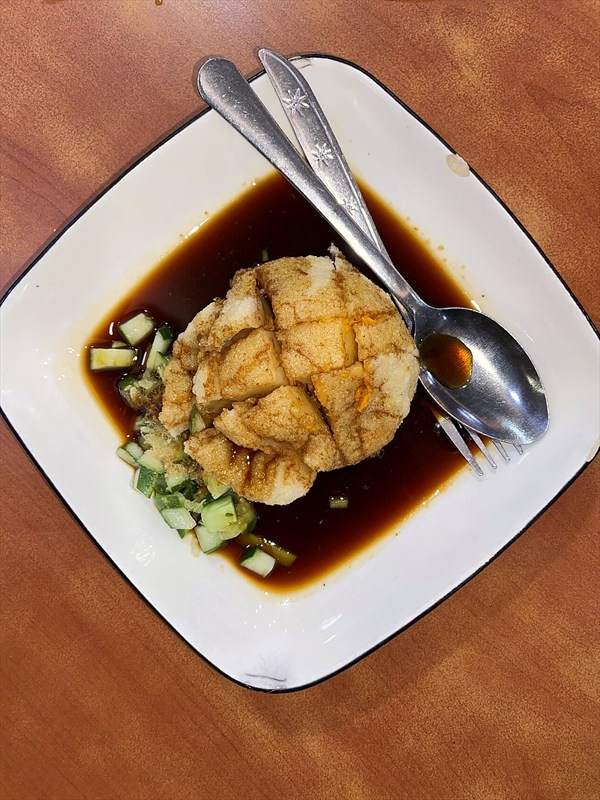Pempek: (73, 99, 538, 668)
